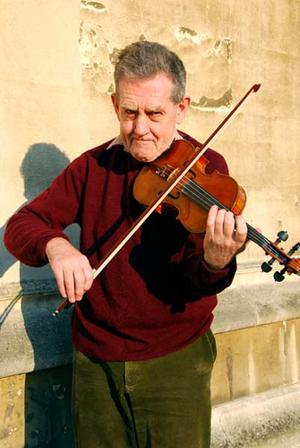person: (5, 42, 249, 448)
